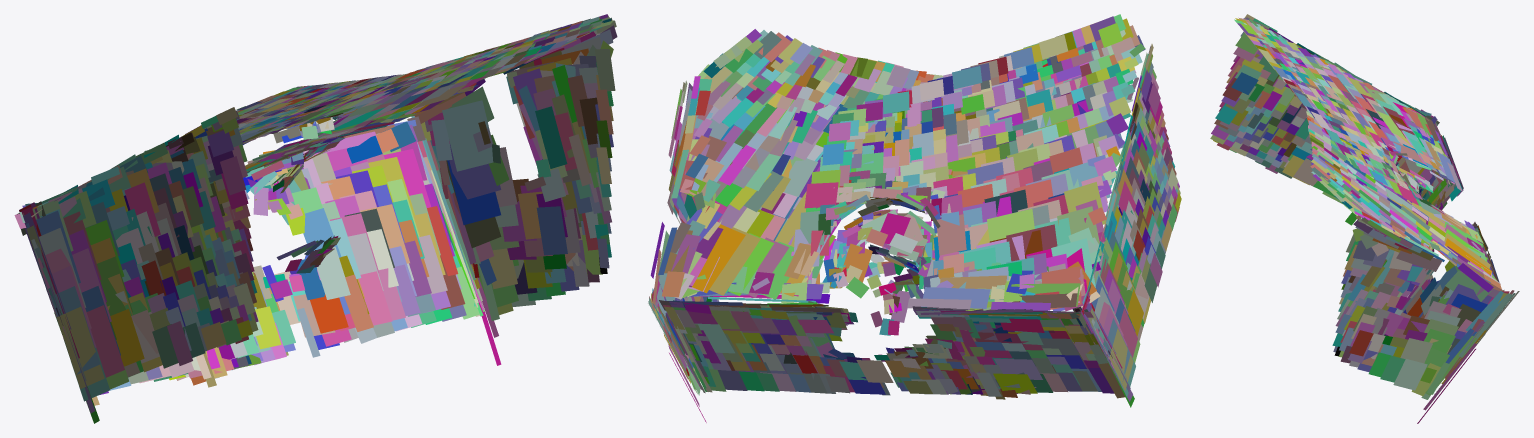
The model's file is planarSplat_rawPrims_normalized_colorPrim.glb.
3 renders of one model, left to right at view 1: azimuth 30°, elevation 25°; view 2: azimuth 150°, elevation 25°; view 3: azimuth 270°, elevation 25°, orthographic. The views are drawn at different scales.
Visible parts, largest first — view 1: planarSplat_rawPrims_normalized_colorPrim.ply; view 2: planarSplat_rawPrims_normalized_colorPrim.ply; view 3: planarSplat_rawPrims_normalized_colorPrim.ply.
Boxes of the visible parts, x1,y1,x2,y2 form: planarSplat_rawPrims_normalized_colorPrim.ply: [14, 14, 617, 423]; planarSplat_rawPrims_normalized_colorPrim.ply: [648, 14, 1181, 422]; planarSplat_rawPrims_normalized_colorPrim.ply: [1210, 14, 1519, 423].
Size of the model in its own units: 2.49 by 2.06 by 1.95.
